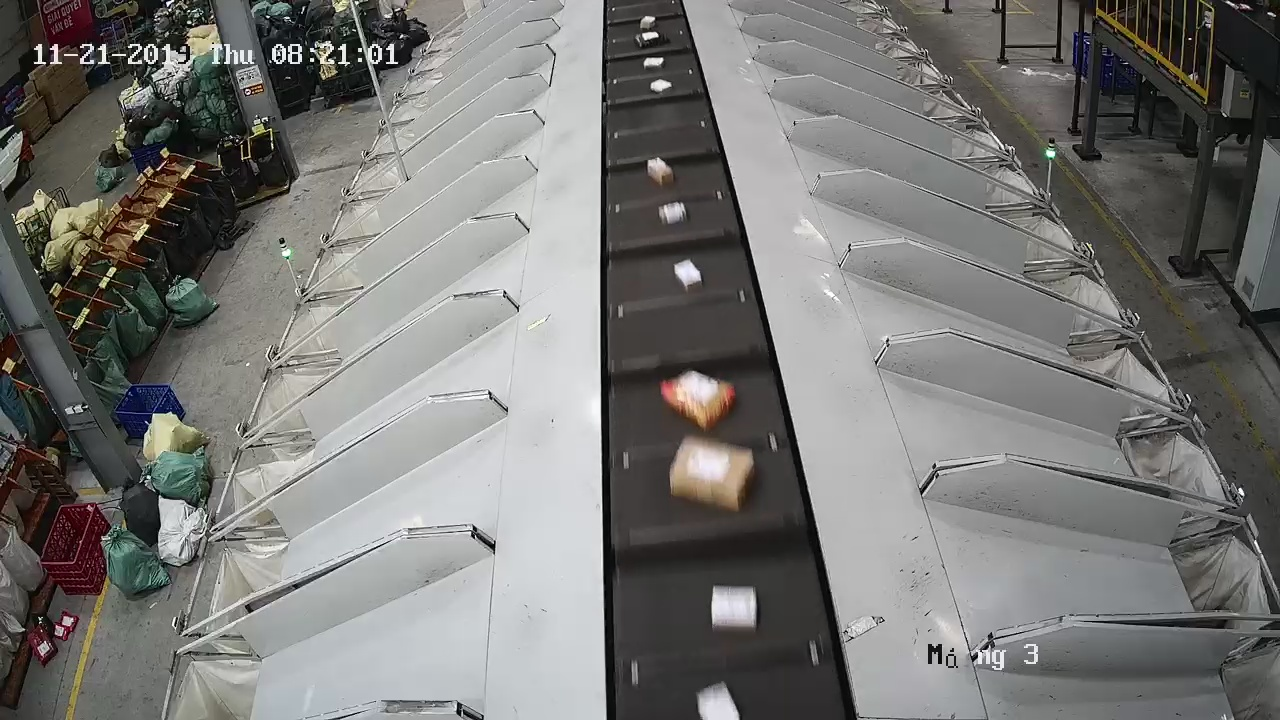parcel: (666, 432, 758, 513), (660, 367, 737, 433), (709, 582, 761, 636)
